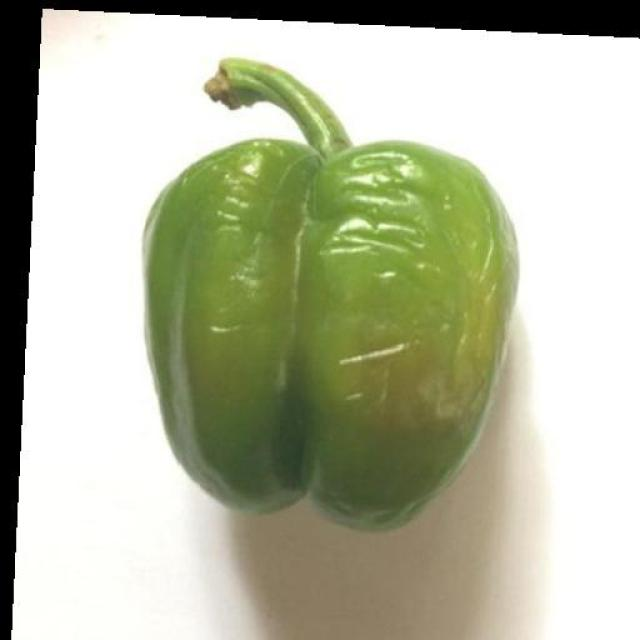Stale_Capsicum: (281, 125, 484, 508)
